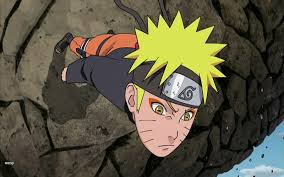Naruto: (136, 22, 211, 159)
